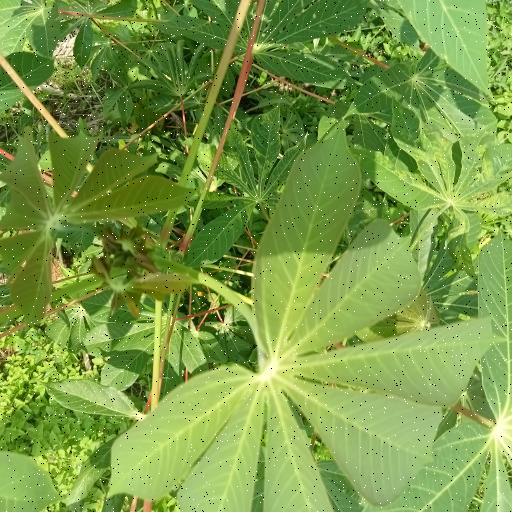Cassava_Healthy: (126, 141, 473, 512), (358, 43, 502, 142)
